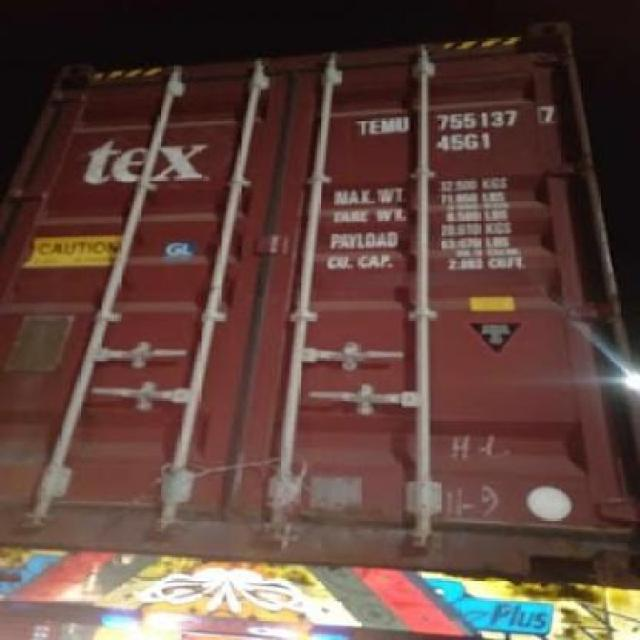ISO: (439, 132, 492, 152)
container_number: (357, 100, 552, 137)
